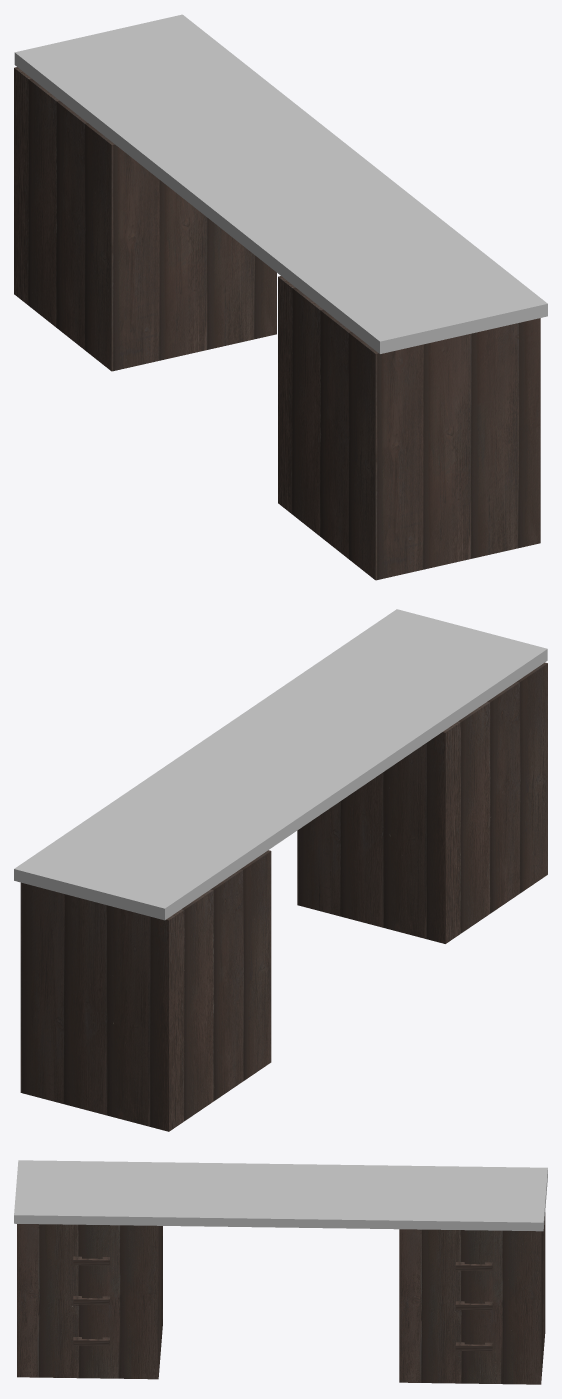
File: Desk.fbx
3 views of the same model, one above another, from view 1: azimuth 30°, elevation 25°; view 2: azimuth 150°, elevation 25°; view 3: azimuth 270°, elevation 25° (orthographic). The views are drawn at different scales.
Parts seen in each view (by area): view 1: Cube.002, Cube.001, Cube.010; view 2: Cube.002, Cube.010, Cube.001; view 3: Cube.002, Cube.010, Cube.001, Cube.008, Cube.007, Cube.004, Cube.009, Cube.005, Cube.006.
Boxes of the visible parts, box(x1,y1,x2,y2) form: Cube.002: box(14, 14, 547, 353); Cube.001: box(278, 276, 540, 580); Cube.010: box(14, 67, 276, 371); Cube.002: box(14, 609, 547, 920); Cube.010: box(20, 850, 271, 1131); Cube.001: box(297, 662, 547, 943); Cube.002: box(14, 1160, 547, 1231); Cube.010: box(399, 1212, 545, 1384); Cube.001: box(17, 1224, 162, 1379); Cube.008: box(455, 1301, 492, 1310); Cube.007: box(455, 1342, 492, 1351); Cube.004: box(73, 1256, 109, 1265); Cube.009: box(455, 1262, 492, 1270); Cube.005: box(73, 1296, 109, 1304); Cube.006: box(73, 1337, 109, 1345).
Size of the model in its own units: 510 by 607 by 1793.
